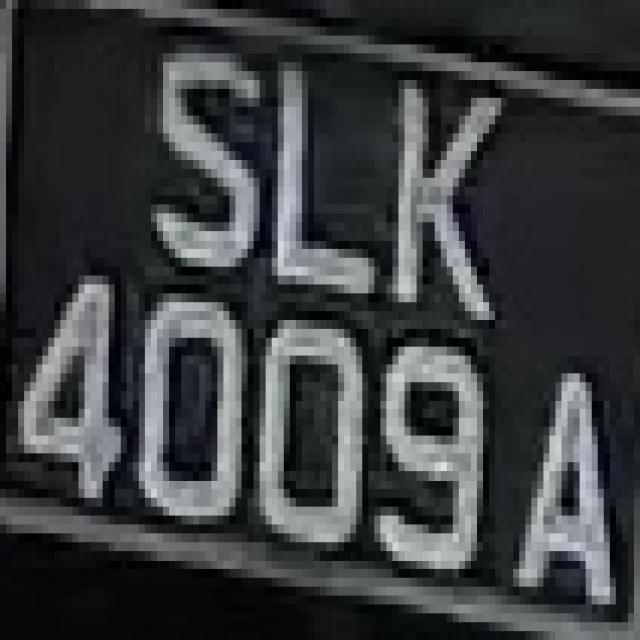0: (242, 284, 381, 586), (133, 293, 247, 551)
4: (12, 240, 133, 551)
9: (393, 294, 507, 596)
A: (501, 311, 628, 631)
K: (368, 53, 520, 338)
L: (248, 45, 374, 311)
S: (138, 27, 260, 302)
